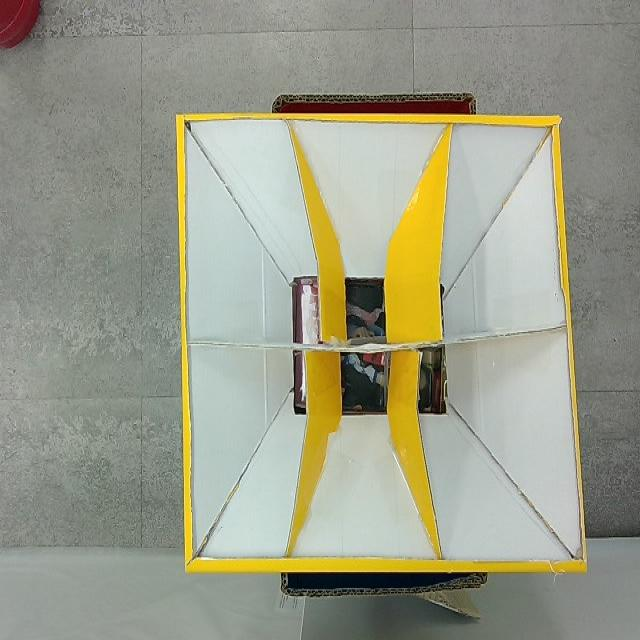box: (178, 94, 588, 606)
